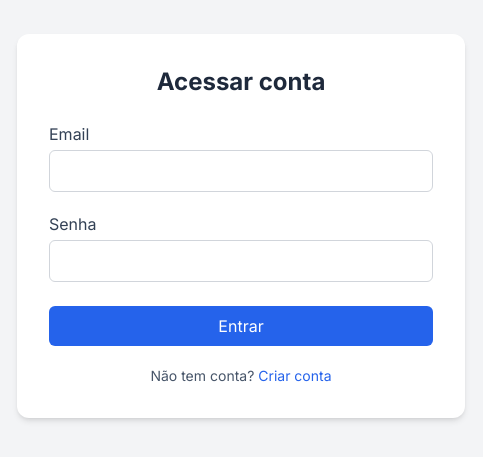
Login Component › shows error message on login failure
Type "wrong@example.com" into the field labelled "Email" at point(241, 171), box [49,150,433,192]
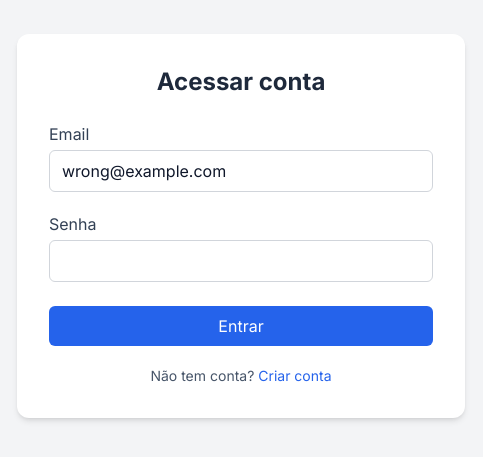
Type "wrongpassword" into the password field labelled "Senha" at point(241, 261), box [49,240,433,282]
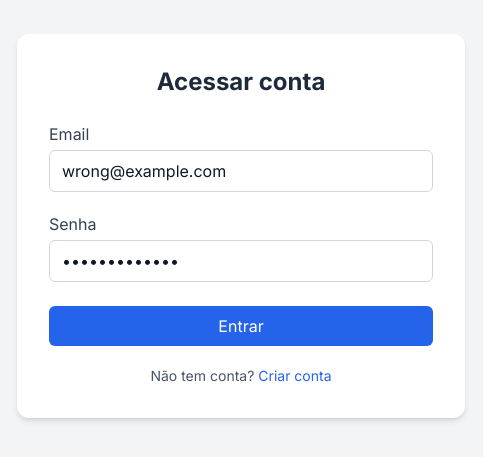
Click the button "Entrar" at point(241, 326), box [49,306,433,346]
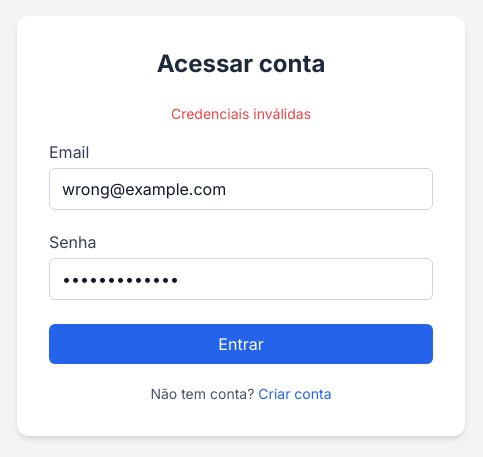
Result: the text "Credenciais inválidas" is shown at [171,105,311,122]
